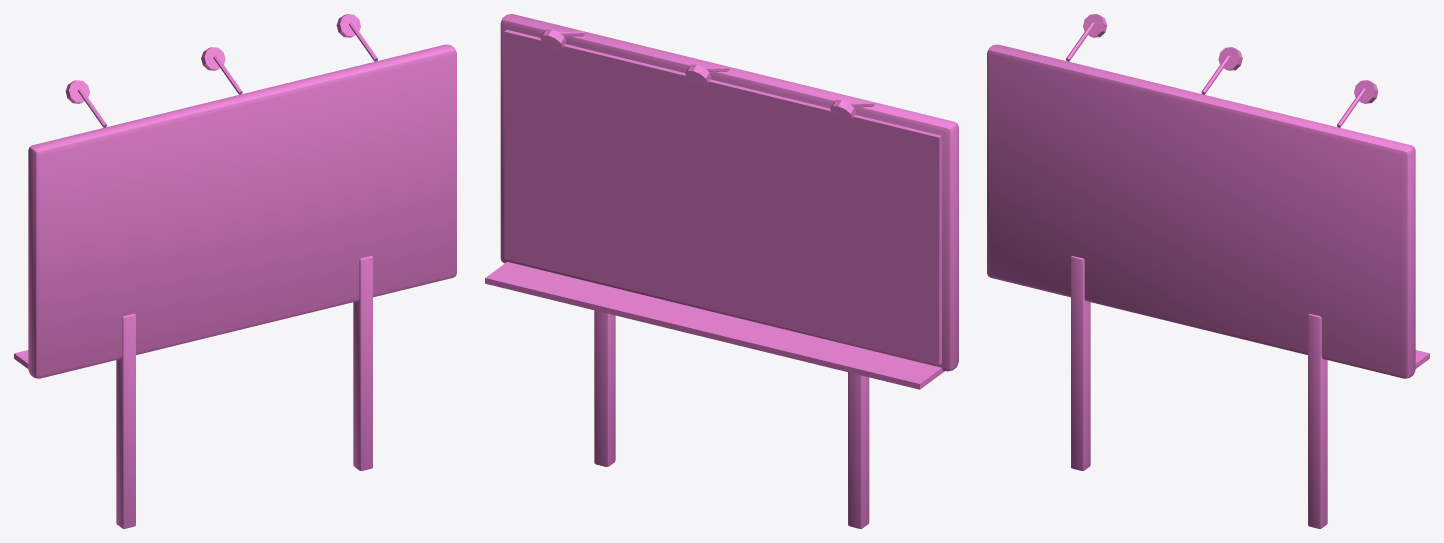
The model's file is Street_Billboard.fbx.
3 views of the same model, side by side, from view 1: azimuth 30°, elevation 25°; view 2: azimuth 150°, elevation 25°; view 3: azimuth 330°, elevation 25° (orthographic). The views are drawn at different scales.
Visible parts, largest first — view 1: Frame; view 2: Panel, Frame; view 3: Frame.
Boxes of the visible parts, x1,y1,x2,y2 form: Frame: (14,14,456,528); Panel: (504,29,941,364); Frame: (485,14,958,528); Frame: (987,14,1429,528).
Bounding box in the file's own units: 25 × 24.02 × 4.07.
1 material, 1 textured.
